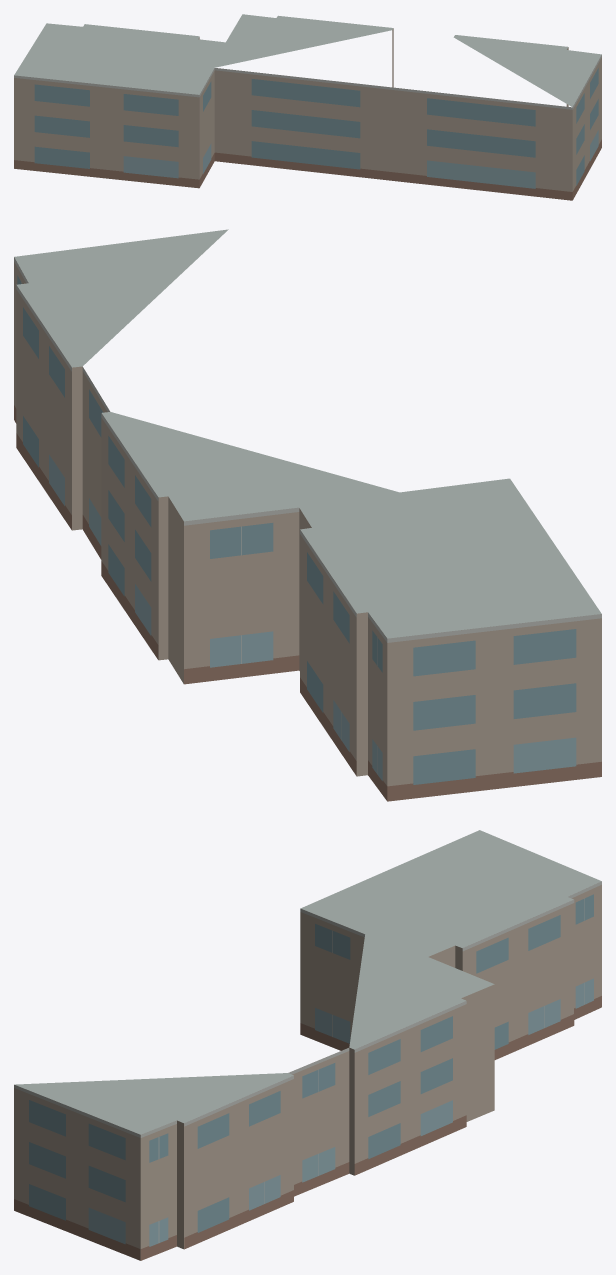
File: survey-upis-32645691.glb
3 views of the same model, one above another, from view 1: azimuth 30°, elevation 25°; view 2: azimuth 150°, elevation 25°; view 3: azimuth 270°, elevation 25° (orthographic). The views are drawn at different scales.
Visible parts, largest first — view 1: survey-upis-32645691.tmp; view 2: survey-upis-32645691.tmp; view 3: survey-upis-32645691.tmp.
Part boxes in pixels (x1=…): survey-upis-32645691.tmp: x1=14, y1=14, x2=601, y2=200; survey-upis-32645691.tmp: x1=14, y1=229, x2=601, y2=801; survey-upis-32645691.tmp: x1=14, y1=830, x2=601, y2=1260.
Bounding box in the file's own units: 47.42 × 9.15 × 38.65.
